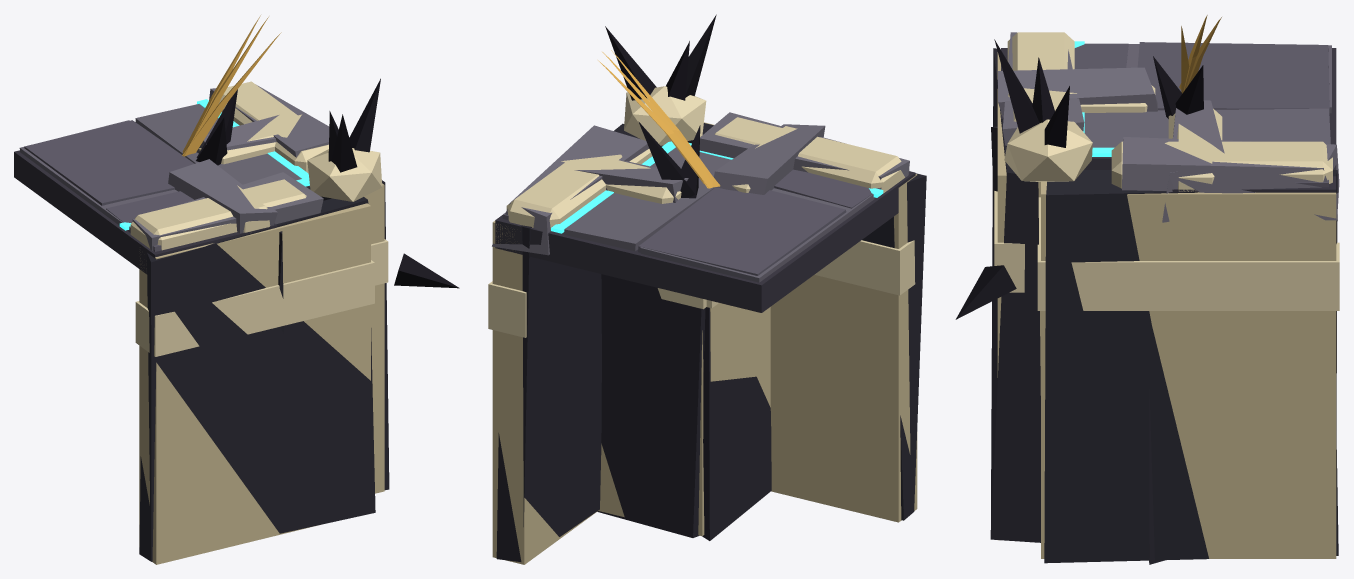
File: bank_corner.glb
The picture shows the model from 3 angles, left to right: view 1: azimuth 30°, elevation 25°; view 2: azimuth 150°, elevation 25°; view 3: azimuth 270°, elevation 25°; orthographic projection. The views are drawn at different scales.
Visible parts, largest first — view 1: bank_corner_outer_corrupted, bank_corner_outer_restored, bank_corner_inner_corrupted, bank_corner_inner_restored; view 2: bank_corner_inner_corrupted, bank_corner_outer_restored, bank_corner_outer_corrupted, bank_corner_inner_restored; view 3: bank_corner_outer_restored, bank_corner_outer_corrupted, bank_corner_inner_corrupted, bank_corner_inner_restored.
Boxes of the visible parts, x1,y1,x2,y2 form: bank_corner_outer_corrupted: (14, 78, 459, 561); bank_corner_outer_restored: (119, 81, 388, 564); bank_corner_inner_corrupted: (14, 89, 293, 333); bank_corner_inner_restored: (182, 15, 301, 232); bank_corner_inner_corrupted: (495, 121, 915, 540); bank_corner_outer_restored: (488, 86, 917, 564); bank_corner_outer_corrupted: (492, 14, 926, 561); bank_corner_inner_restored: (561, 50, 797, 536); bank_corner_outer_restored: (994, 32, 1339, 558); bank_corner_outer_corrupted: (955, 32, 1339, 563); bank_corner_inner_corrupted: (991, 42, 1336, 564); bank_corner_inner_restored: (1001, 15, 1222, 395).
Bounding box in the file's own units: 1.2 × 1.72 × 1.15.
